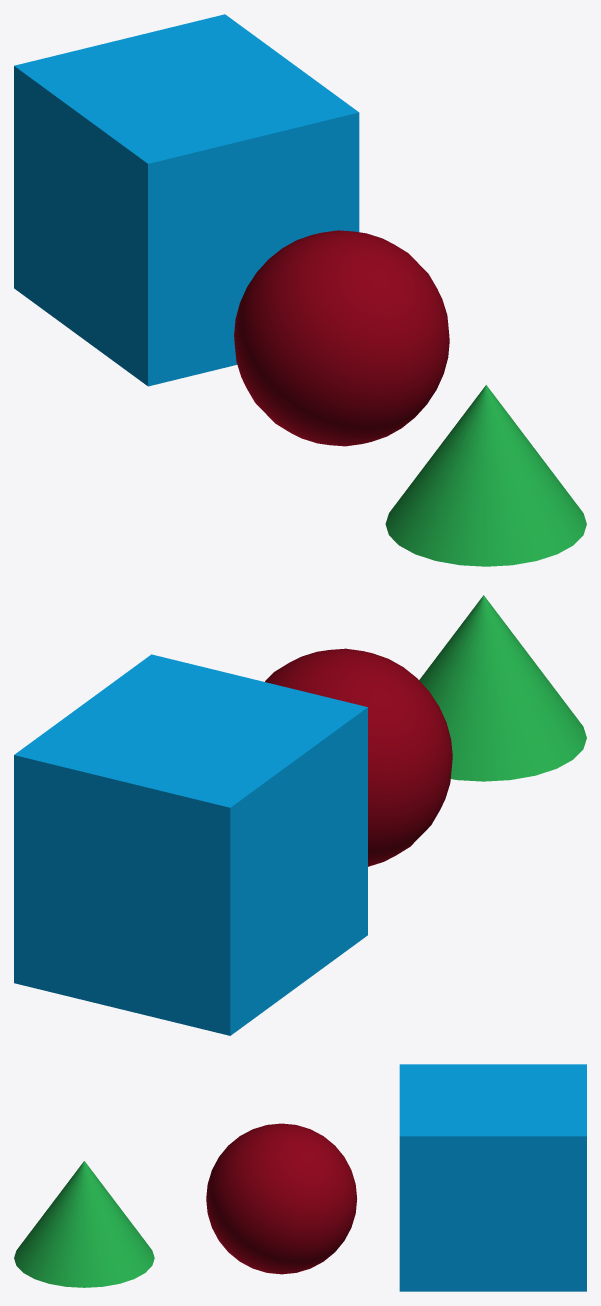
3 views of the same model, one above another, from view 1: azimuth 30°, elevation 25°; view 2: azimuth 150°, elevation 25°; view 3: azimuth 270°, elevation 25° (orthographic). The views are drawn at different scales.
Parts seen in each view (by area): view 1: Box001, Sphere001, Cone001; view 2: Box001, Cone001, Sphere001; view 3: Box001, Sphere001, Cone001.
Part boxes in pixels (bbox=[...]): Box001: bbox=[14, 14, 359, 386]; Sphere001: bbox=[234, 230, 449, 446]; Cone001: bbox=[385, 385, 586, 566]; Box001: bbox=[14, 654, 367, 1035]; Cone001: bbox=[419, 595, 586, 781]; Sphere001: bbox=[265, 648, 452, 866]; Box001: bbox=[399, 1064, 586, 1291]; Sphere001: bbox=[206, 1123, 356, 1274]; Cone001: bbox=[14, 1161, 154, 1287].
Size of the model in its own units: 32.73 by 35.16 by 110.
Materials: 3 (3 with a texture image).
